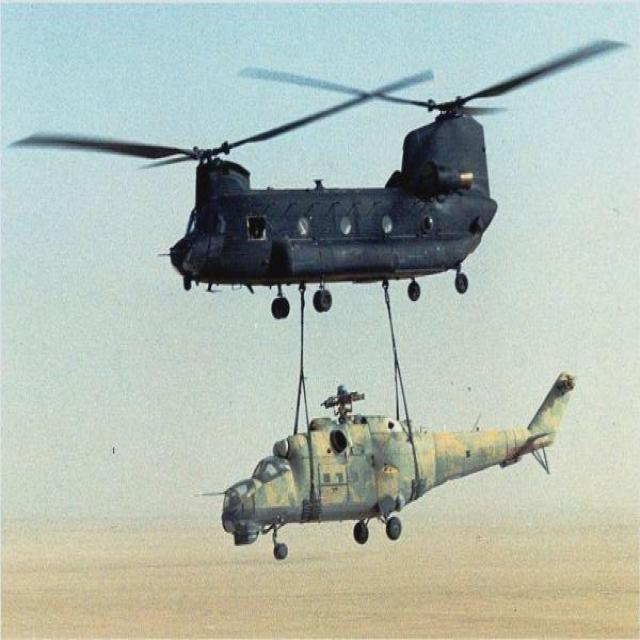MIL_HELO: (7, 52, 631, 321), (189, 344, 581, 541)
